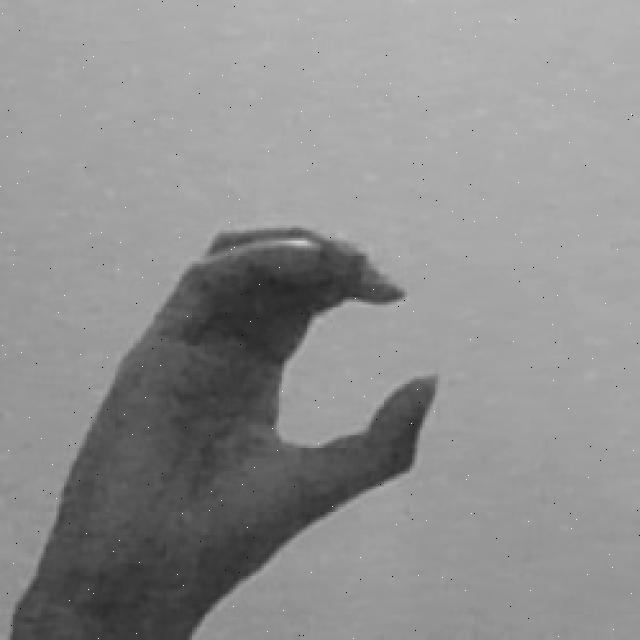C: (8, 220, 440, 640)
